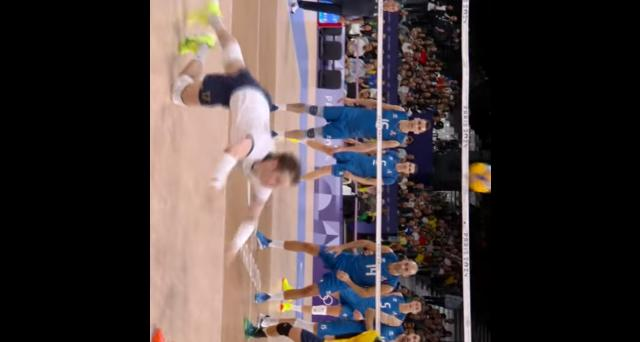Levantador: (298, 152, 420, 186), (286, 326, 406, 342)
Libero: (170, 0, 300, 273)
bola: (465, 158, 491, 194)
